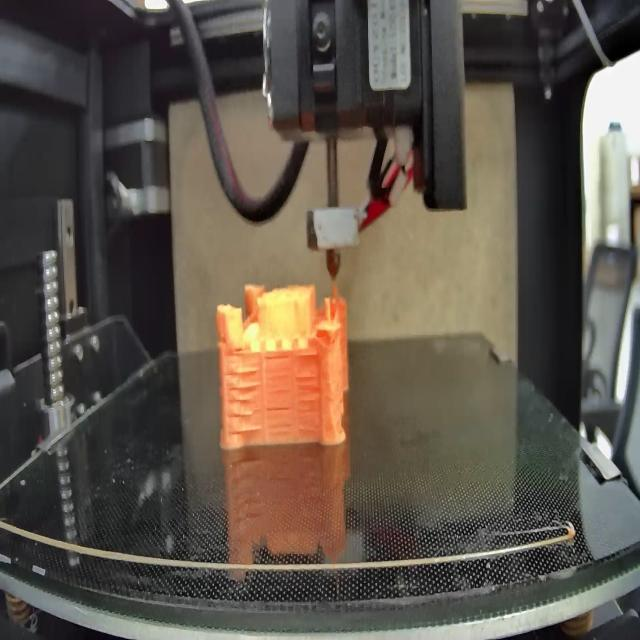cracks: (226, 363, 264, 438), (266, 398, 292, 438), (298, 397, 320, 436), (294, 371, 320, 390), (264, 355, 296, 364), (296, 350, 320, 360)
